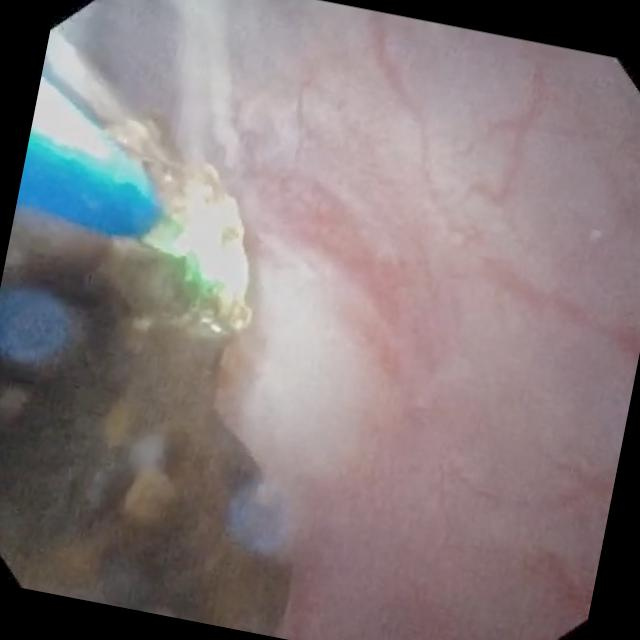laser-fibre: (145, 205, 194, 258)
laser_dot: (183, 228, 248, 298)
stone-new: (0, 119, 291, 636)
